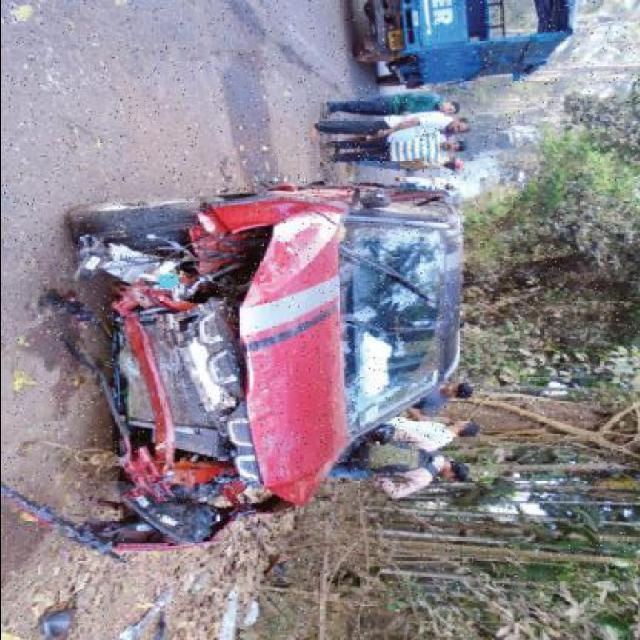front-bumper-dent: (97, 203, 254, 544)
